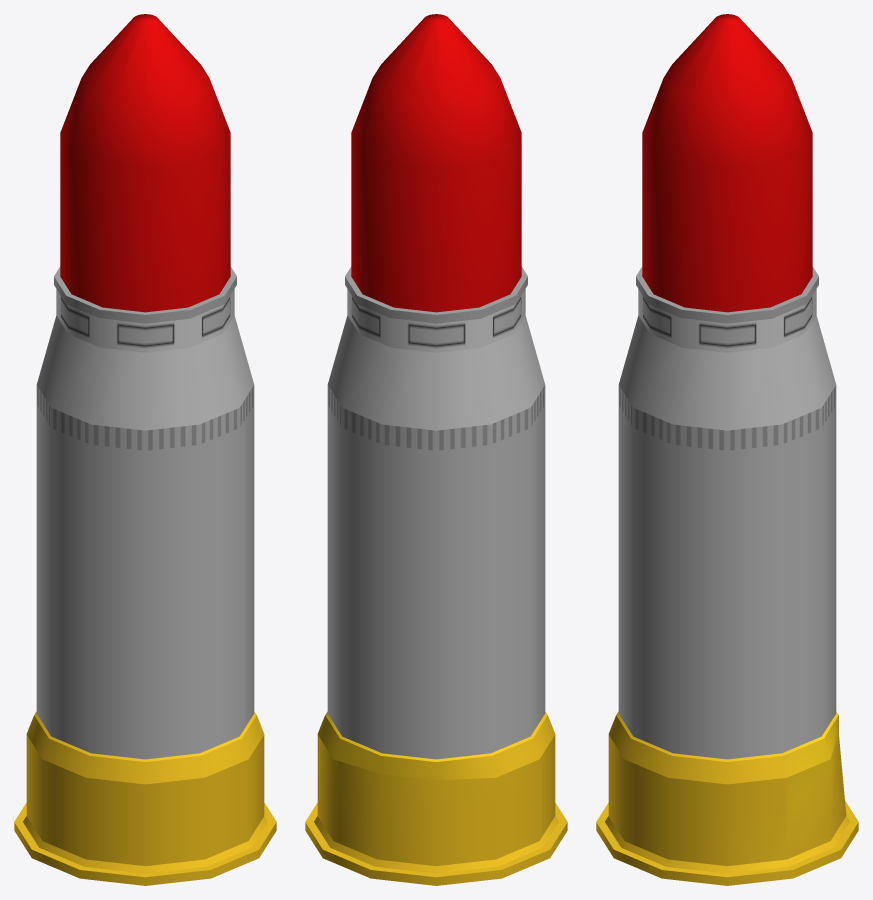
File: shell.fbx
3 views of the same model, side by side, from view 1: azimuth 30°, elevation 25°; view 2: azimuth 150°, elevation 25°; view 3: azimuth 270°, elevation 25° (orthographic).
Parts seen in each view (by area): view 1: shell; view 2: shell; view 3: shell.
Part boxes in pixels (bbox=[...]): shell: bbox=[14, 14, 276, 885]; shell: bbox=[305, 14, 567, 885]; shell: bbox=[596, 14, 858, 885].
Bounding box in the file's own units: 1.1 × 3.75 × 1.1.
